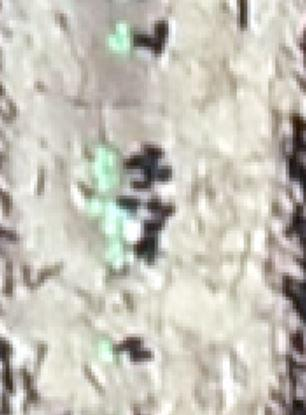cotton: (87, 198, 131, 223), (97, 147, 121, 187), (103, 218, 128, 252), (108, 22, 132, 52), (101, 339, 116, 363)
